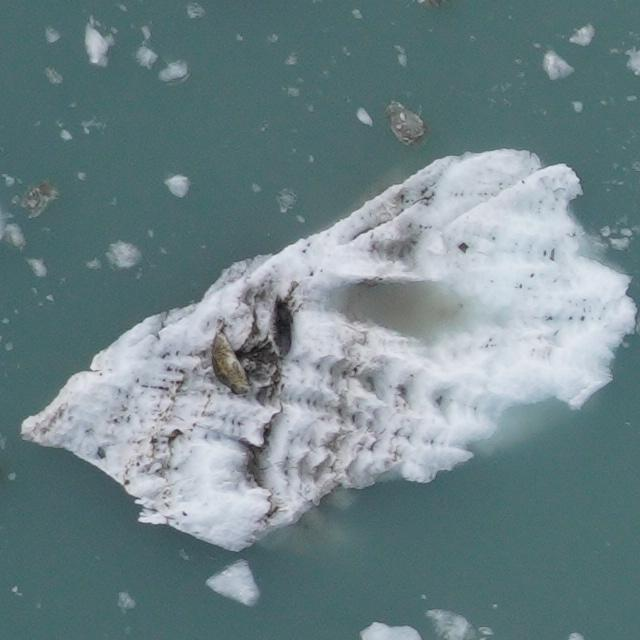seal: (208, 316, 256, 400), (264, 288, 296, 361)
